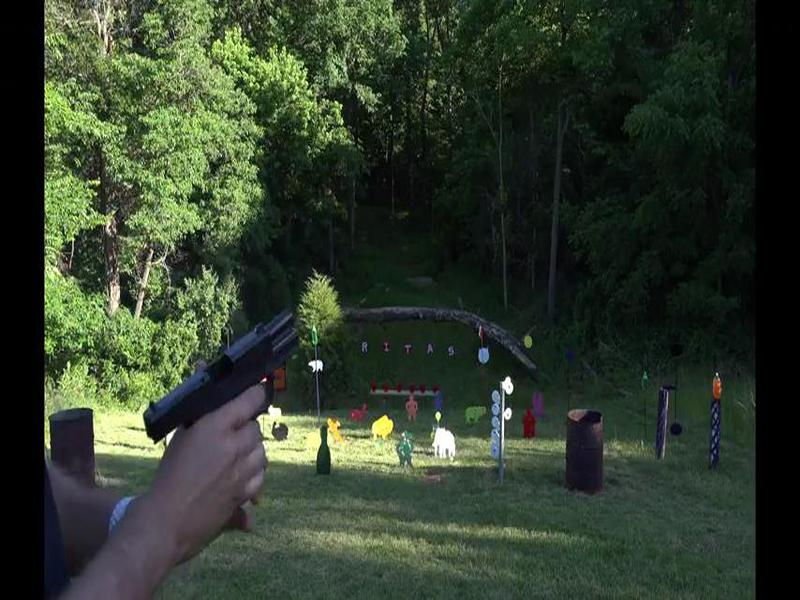Pistola: (131, 299, 326, 452)
